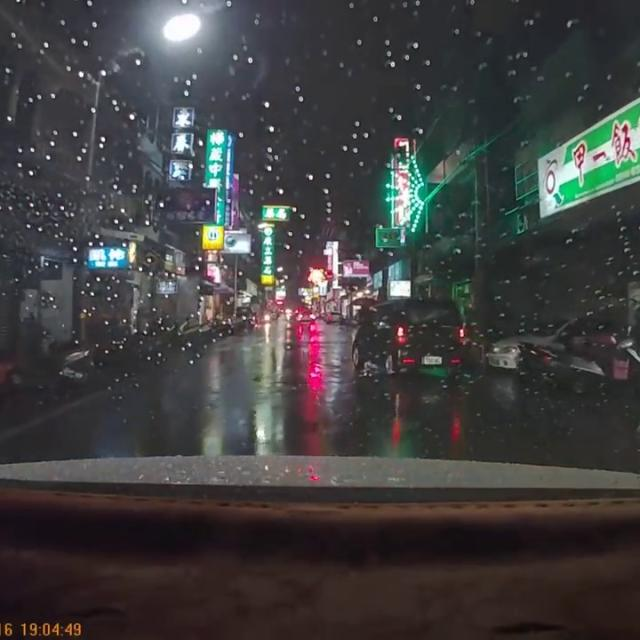Car: (350, 296, 464, 376), (482, 313, 619, 378), (293, 309, 315, 321), (323, 311, 343, 324)
